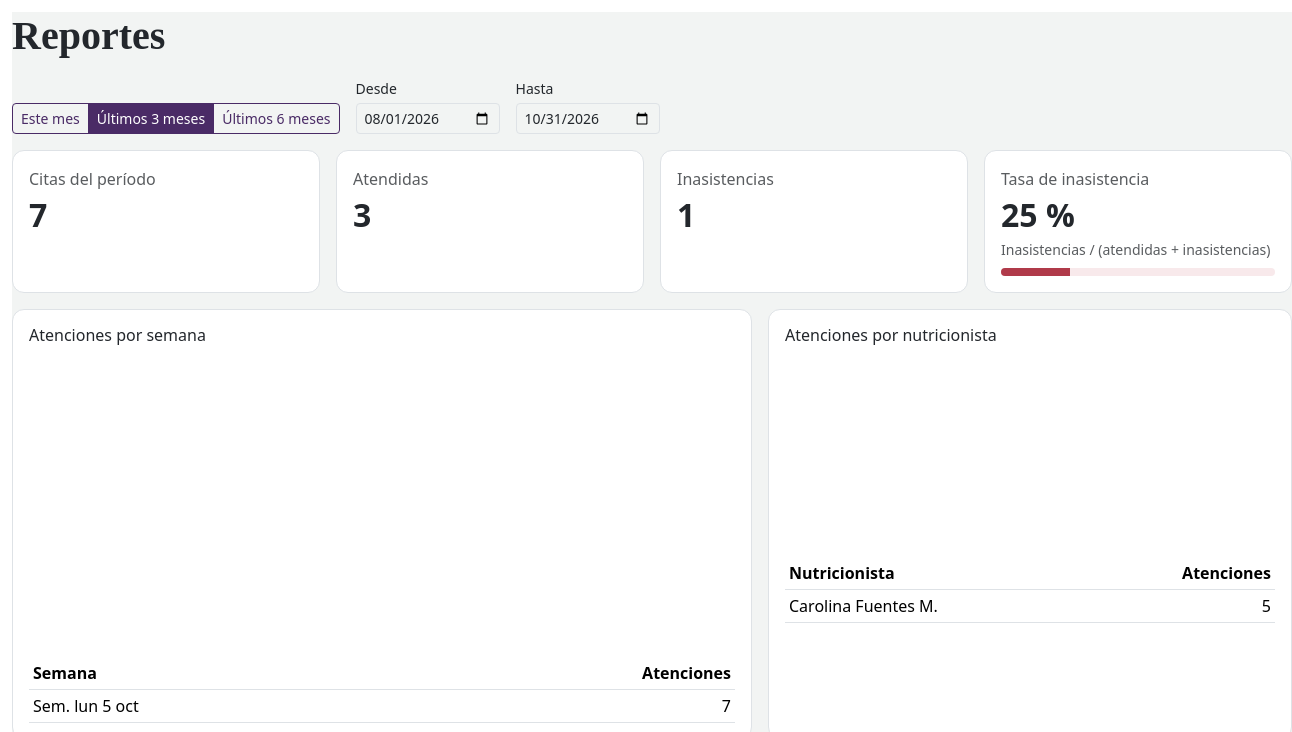
Scenario: Reportes › al cambiar el rango vuelve a pedir las estadísticas y actualiza la tabla
Check: the table named "Atenciones por nutricionista" is shown, box [785,557,1275,622]
Type "2026-10-01" into the date field labelled "Desde" at (428, 118), box [356,103,500,134]
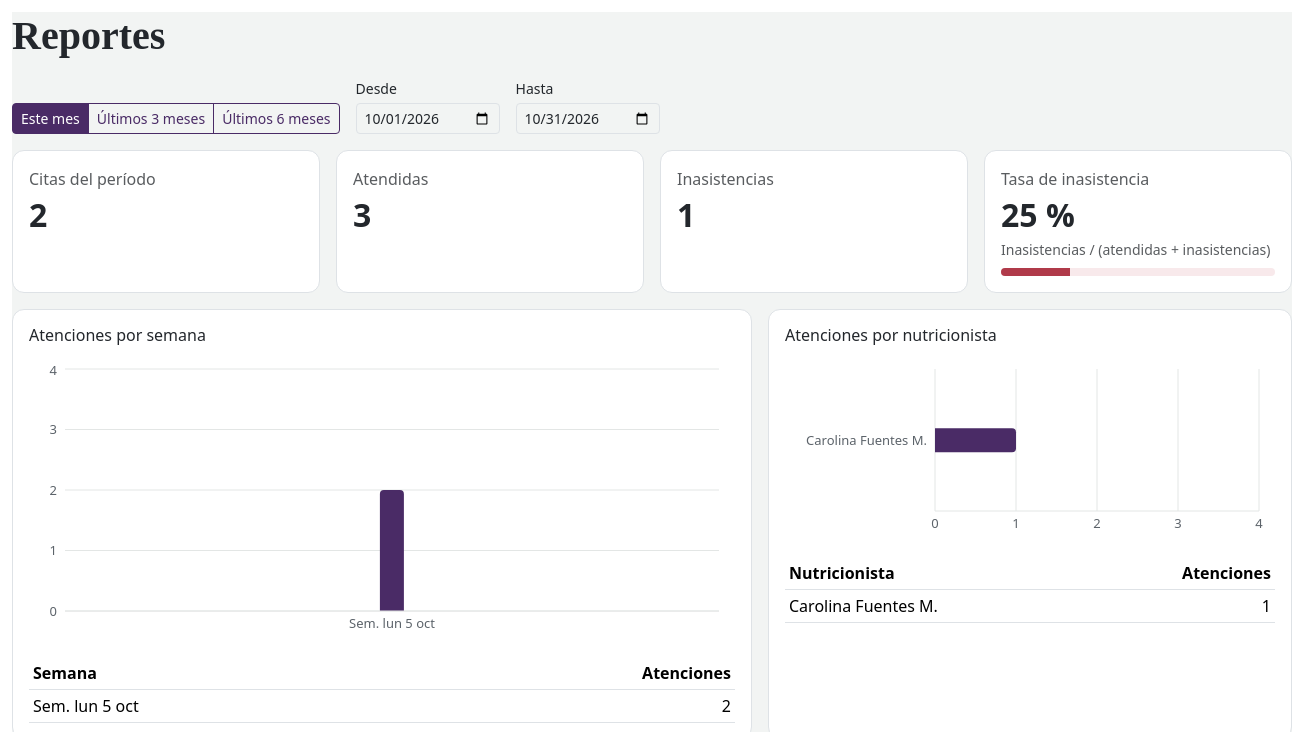
Check: the row "Carolina Fuentes M. 1" is shown, box [785,590,1275,623]
